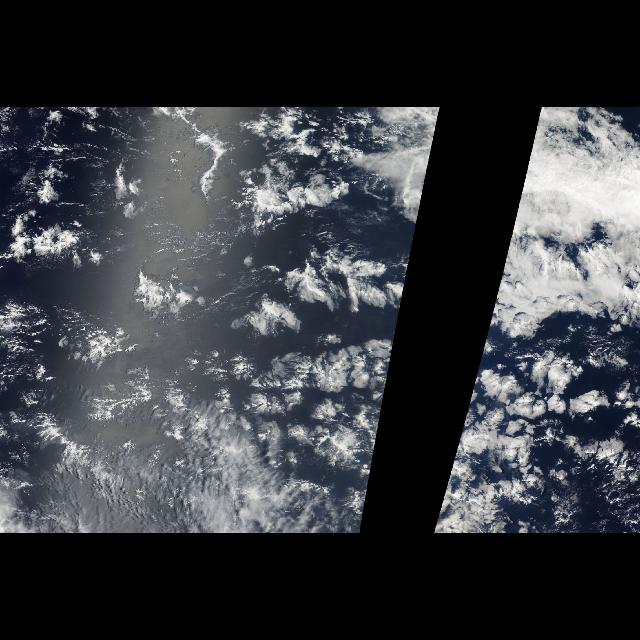Flower: (0, 167, 388, 335), (215, 344, 395, 514), (439, 344, 619, 514)
Gravel: (6, 111, 348, 534)
Sugar: (2, 360, 198, 520)
